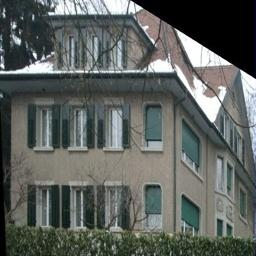building: (3, 21, 246, 238)
